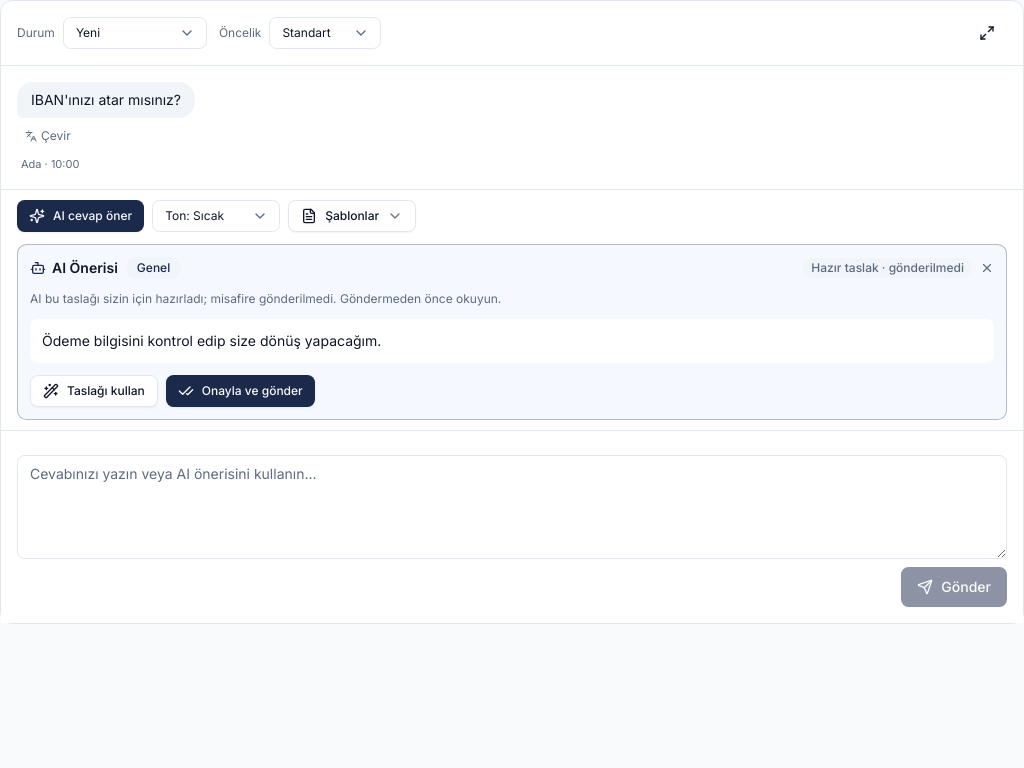
Test case: ConversationThread — hazır taslak › kapatılan taslak yenilemede (aynı mesaj) geri GELMEZ; yeni mesajın taslağı gelir
Later steps or results of the test are not shown.
Click the button named "AI önerisini kapat": click(987, 268) [980,260,994,274]
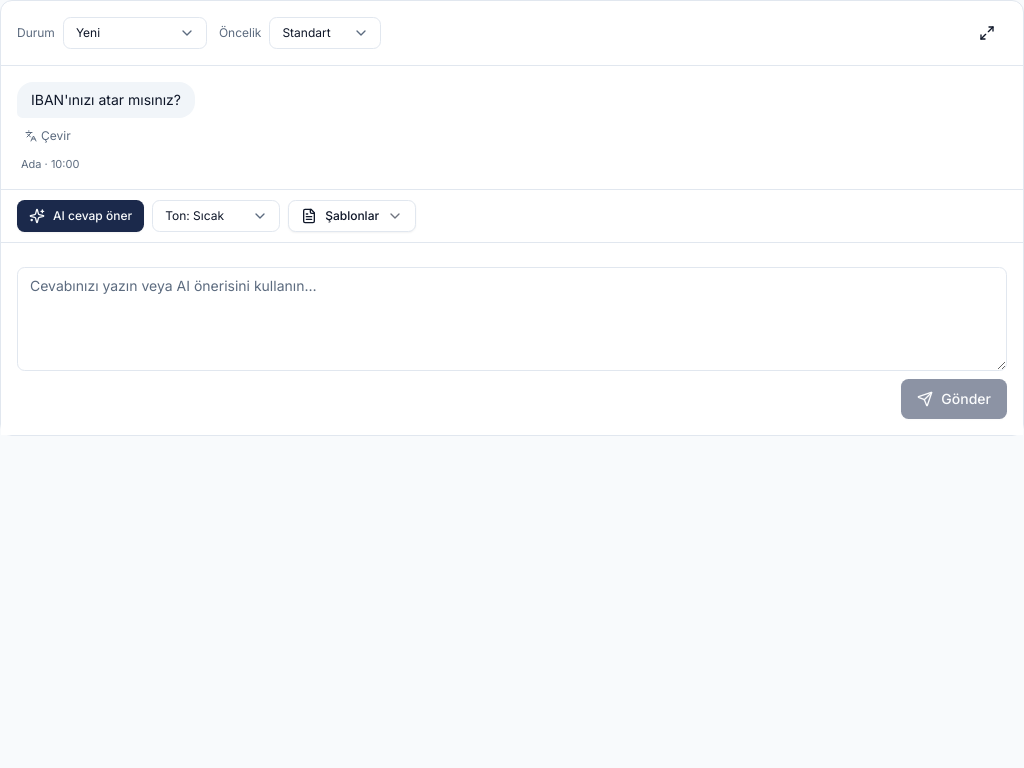
Expected: the text with test id "prepared-draft-badge" is gone
